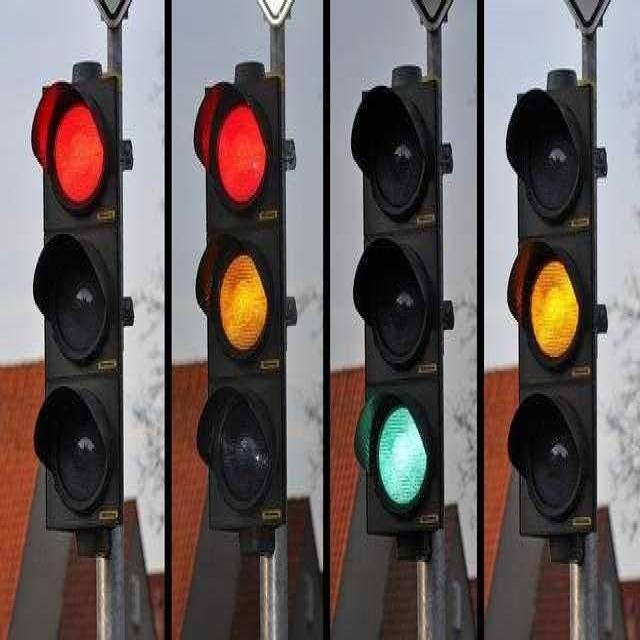Traffic Light -Green-: (353, 69, 447, 542), (351, 377, 448, 544)
Traffic Light -Red-: (27, 77, 132, 535), (192, 76, 288, 220)
Traffic Light -Yellow-: (502, 79, 616, 554), (194, 77, 296, 547), (193, 224, 288, 374), (505, 232, 596, 377)
